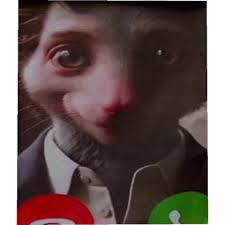mouse-pay: (19, 1, 207, 223)
